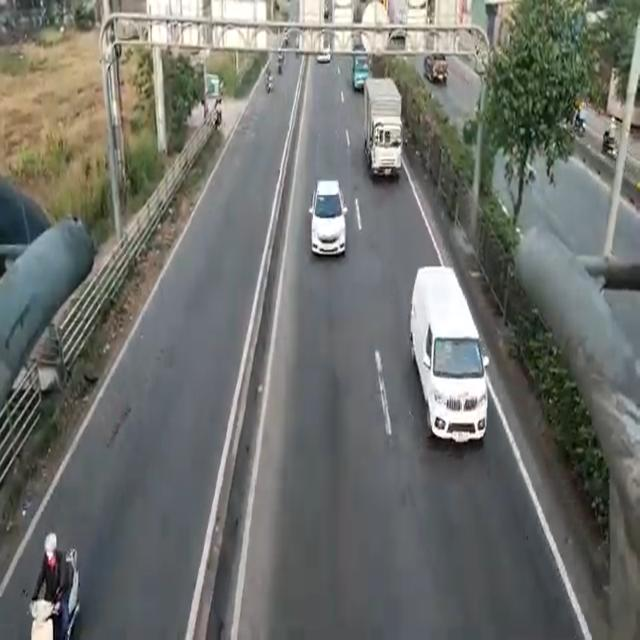car: (407, 263, 493, 456), (307, 176, 354, 265)
motorbike: (32, 536, 80, 640)
truck: (362, 70, 404, 188)
